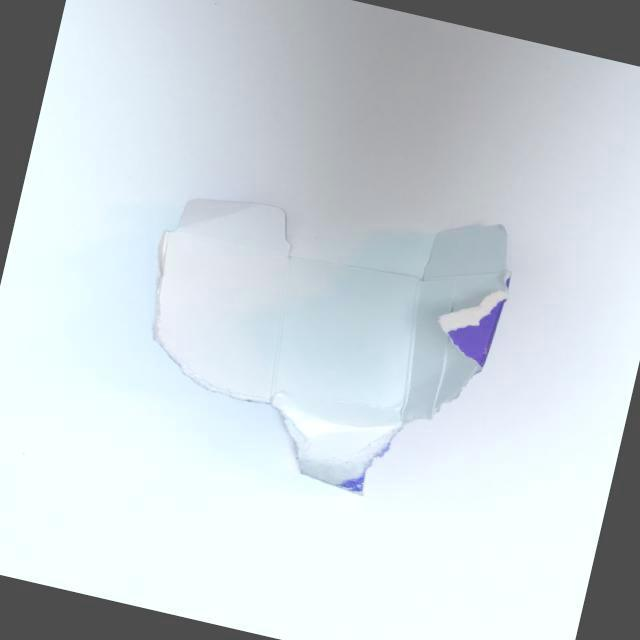paper: (97, 104, 564, 532)
